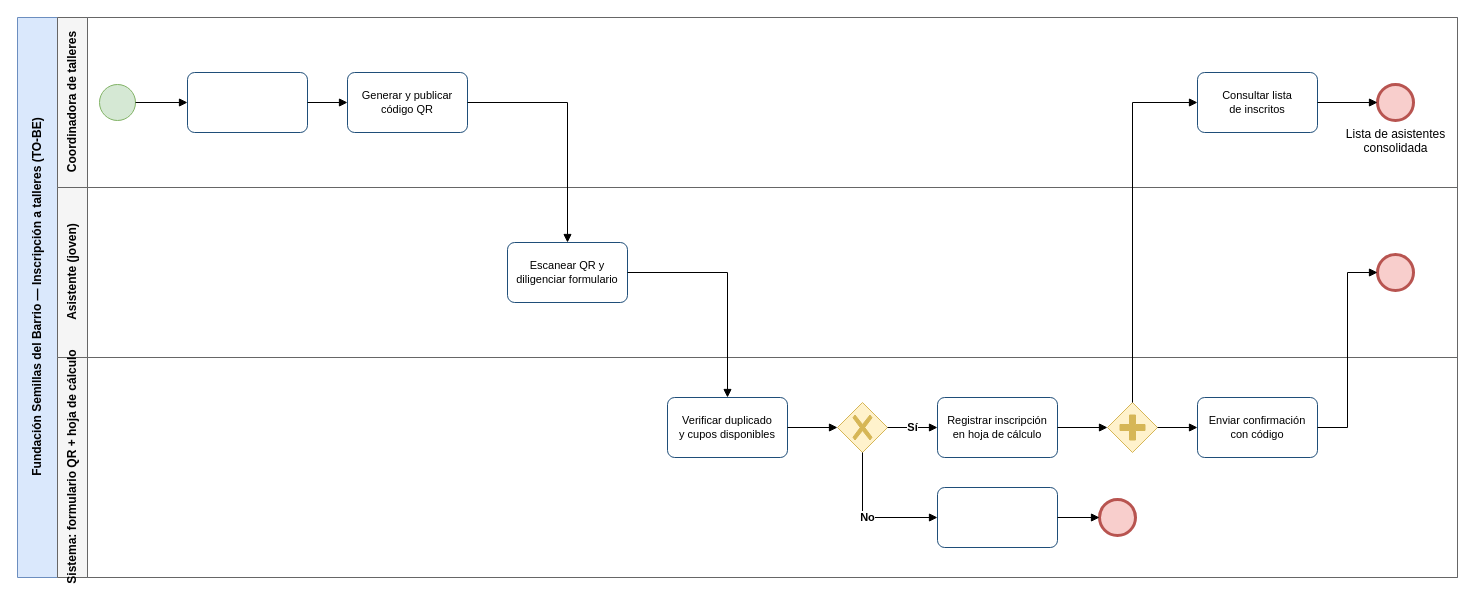
Image size: 1475x602. Some labels were removed from this diagram. The centre of each missing label's shape, as x and y in pixels:
"Crear taller y definir cupos" belongs at (x=247, y=102).
"Inscripción confirmada" belongs at (x=1395, y=272).
"Inscripción rechazada" belongs at (x=1117, y=517).
"Notificar rechazo (duplicado / sin cupo)" belongs at (x=997, y=517).
"Taller programado" belongs at (x=117, y=102).
"¿Hay cupo y no está inscrito?" belongs at (x=862, y=427).
